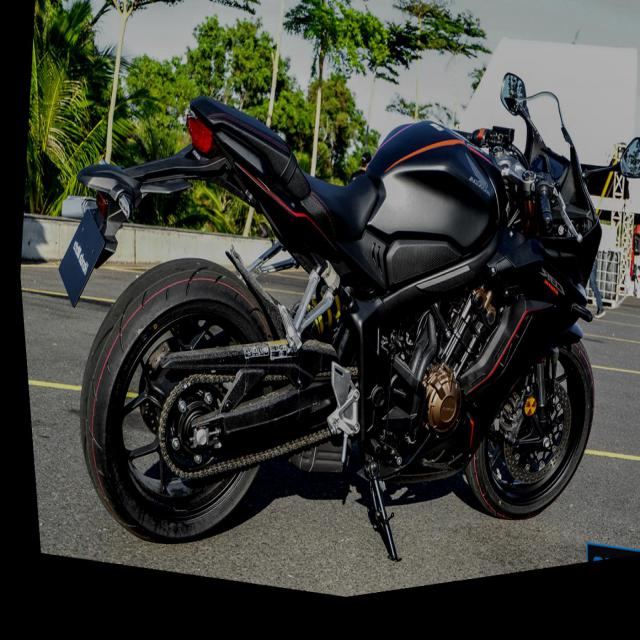CBR650R: (2, 0, 639, 639)
